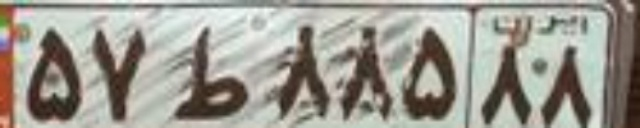5: (26, 28, 86, 122), (402, 25, 454, 119)
7: (90, 28, 148, 120)
8: (276, 24, 330, 119), (340, 25, 391, 119), (478, 43, 531, 126), (544, 44, 595, 126)
taa: (173, 26, 250, 119)
